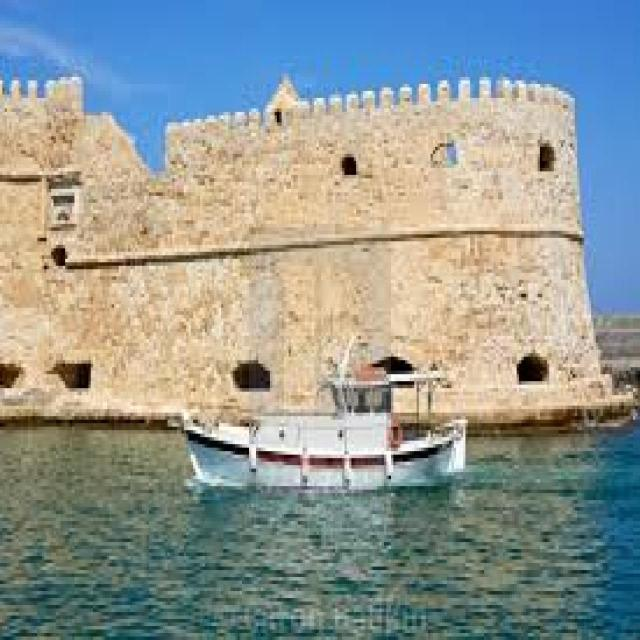Kules: (1, 76, 637, 430)
